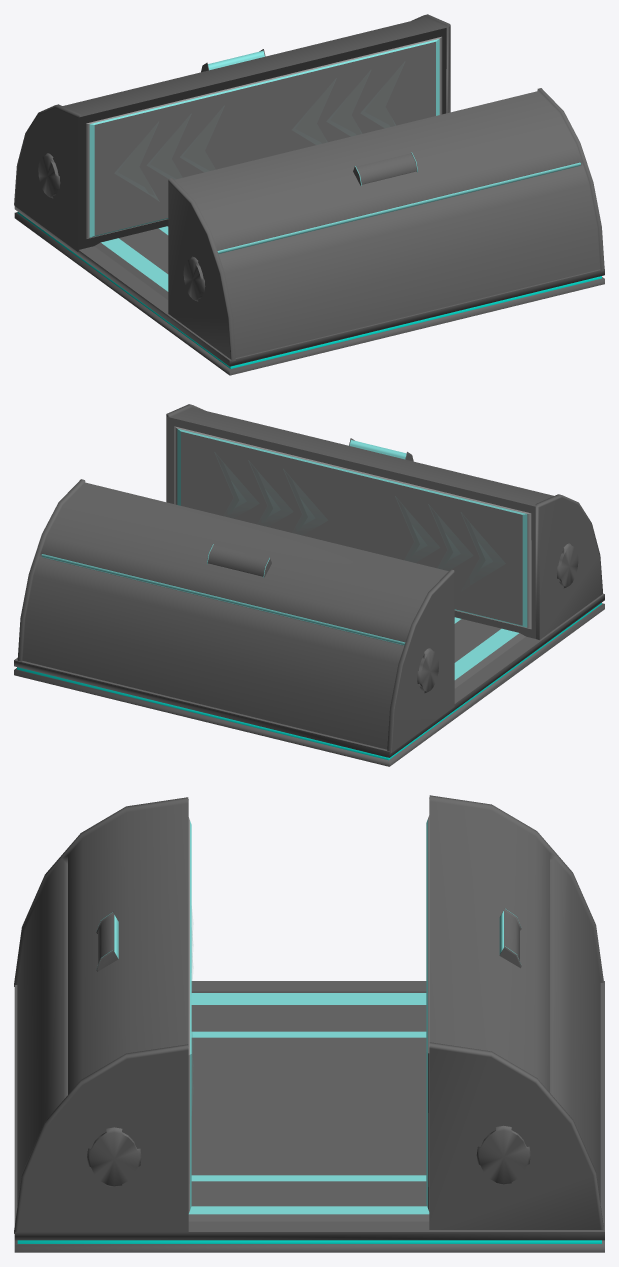
Rendered from MustWalkThisWay.fbx.
3 renders of one model, top to bottom at view 1: azimuth 30°, elevation 25°; view 2: azimuth 150°, elevation 25°; view 3: azimuth 270°, elevation 25°, orthographic. The views are drawn at different scales.
Parts seen in each view (by area): view 1: pCylinder5, pCylinder1, pCube11, pCube2, pCube6, pCube3, pCylinder2, pCube10, pCylinder11, pCylinder8; view 2: pCylinder1, pCylinder5, pCube11, pCube2, pCube6, pCube3, pCylinder2, pCube10, pCylinder11, pCylinder8; view 3: pCylinder1, pCylinder5, pCube6, pCube2, pCube11 (×2), pCube3, pCylinder7, pCylinder8, pCube10 (×2).
Boxes of the visible parts, <box> form: pCylinder5: <box>168,88,604,361</box>; pCylinder1: <box>14,14,450,251</box>; pCube11: <box>86,36,442,238</box>; pCube2: <box>14,206,604,375</box>; pCube6: <box>94,226,168,299</box>; pCube3: <box>17,212,601,368</box>; pCylinder2: <box>217,162,580,253</box>; pCube10: <box>353,152,417,185</box>; pCylinder11: <box>38,153,60,198</box>; pCylinder8: <box>183,256,205,301</box>; pCylinder1: <box>17,479,454,753</box>; pCylinder5: <box>166,404,602,639</box>; pCube11: <box>174,426,531,629</box>; pCube2: <box>14,593,604,766</box>; pCube6: <box>454,617,525,688</box>; pCube3: <box>17,603,601,760</box>; pCylinder2: <box>41,554,405,645</box>; pCube10: <box>207,544,271,577</box>; pCylinder11: <box>417,648,438,693</box>; pCylinder8: <box>557,543,578,588</box>; pCylinder1: <box>429,795,603,1229</box>; pCylinder5: <box>14,797,188,1233</box>; pCube6: <box>188,991,429,1221</box>; pCube2: <box>14,981,604,1252</box>; pCube11 (×2): <box>188,815,429,1213</box>; pCube3: <box>17,1240,601,1243</box>; pCylinder7: <box>87,1127,141,1186</box>; pCylinder8: <box>476,1125,530,1184</box>; pCube10 (×2): <box>96,908,521,971</box>.
Size of the model in its own units: 10.18 by 3.82 by 9.95.
